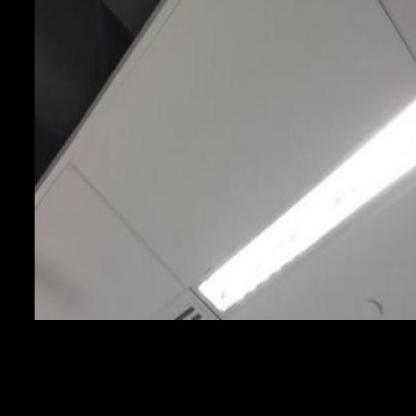light_on: (183, 72, 415, 346)
